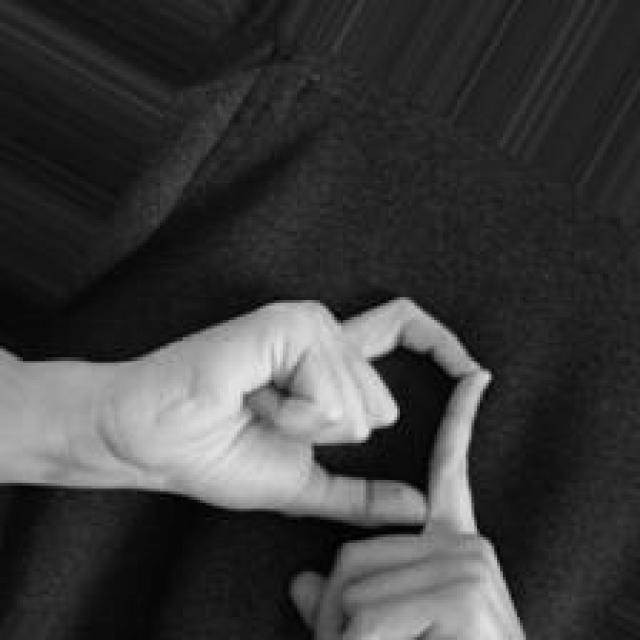D: (135, 293, 522, 640)
